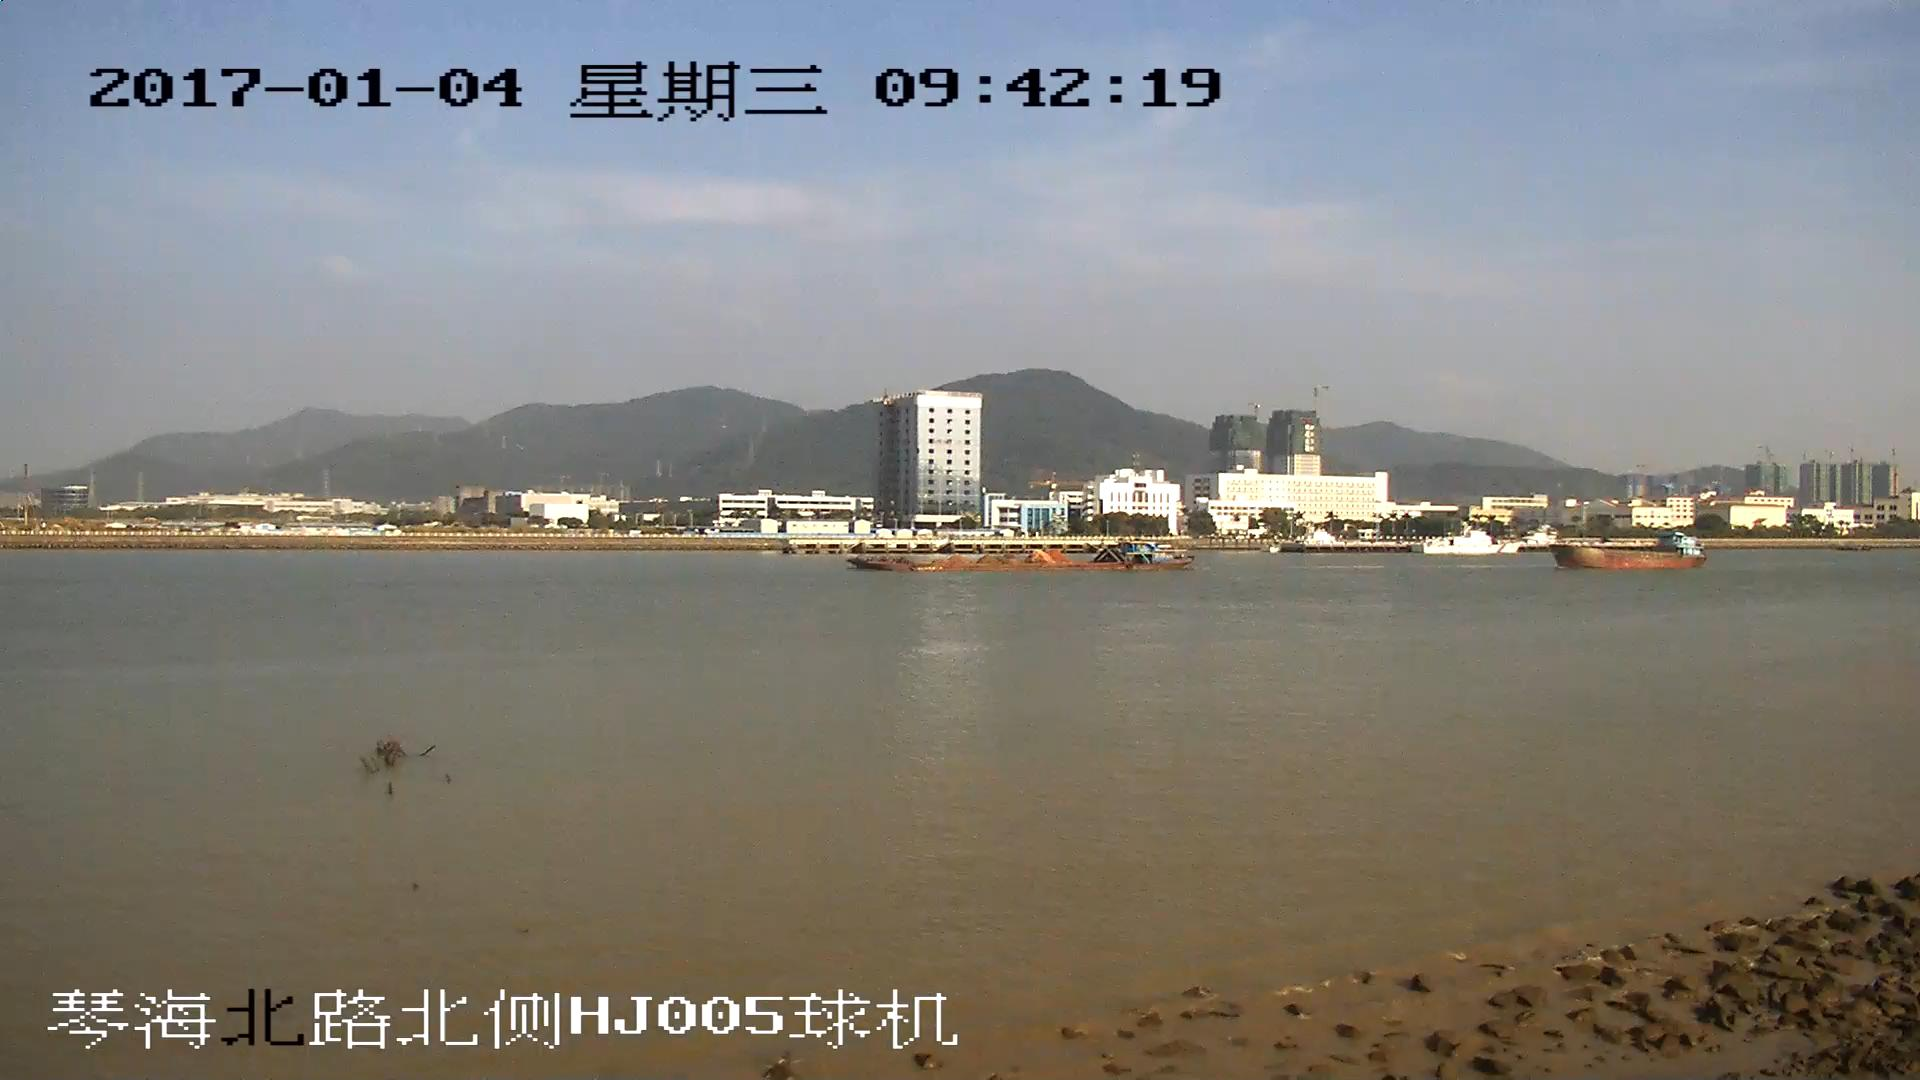bulk cargo carrier: (1557, 532, 1703, 569)
ore carrier: (850, 543, 1195, 572)
